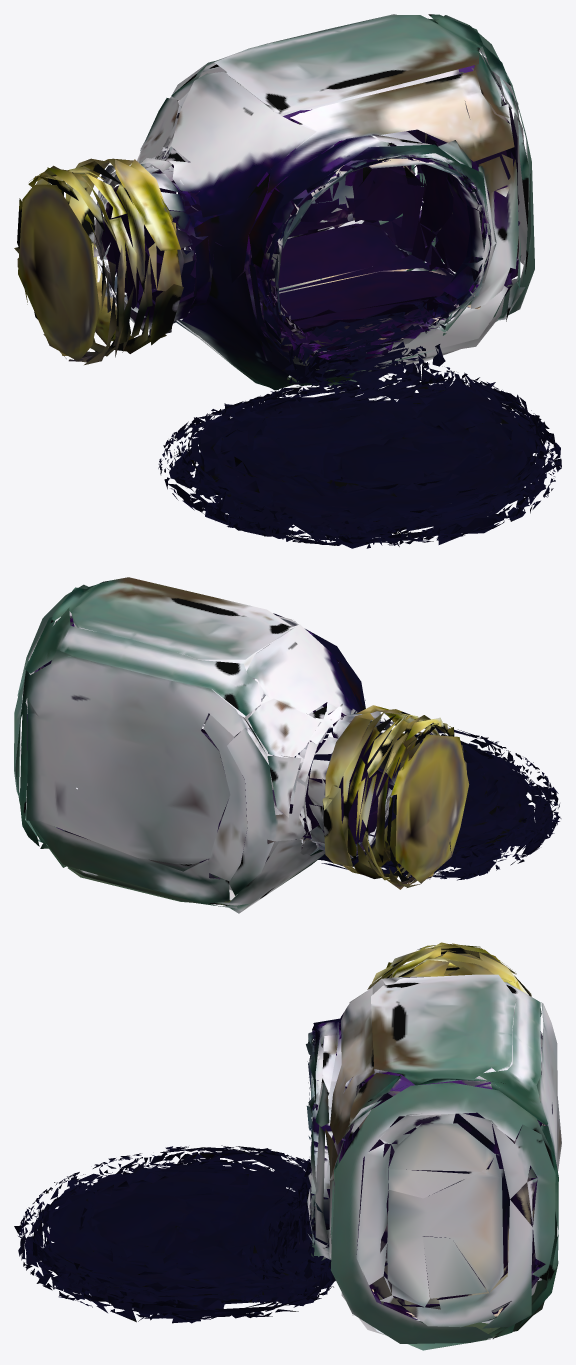
File: inkwell.glb
The picture shows the model from 3 angles, top to bottom: view 1: azimuth 30°, elevation 25°; view 2: azimuth 150°, elevation 25°; view 3: azimuth 270°, elevation 25°; orthographic projection. The views are drawn at different scales.
Visible parts, largest first — view 1: inkwell_body; view 2: inkwell_body; view 3: inkwell_body.
Part boxes in pixels (box(x1,y1,x2,y2)): inkwell_body: box(14, 14, 561, 548); inkwell_body: box(14, 577, 561, 913); inkwell_body: box(14, 942, 561, 1350).
Size of the model in its own units: 0.9515 by 0.6443 by 1.11.
Materials: 1 (1 with a texture image).
